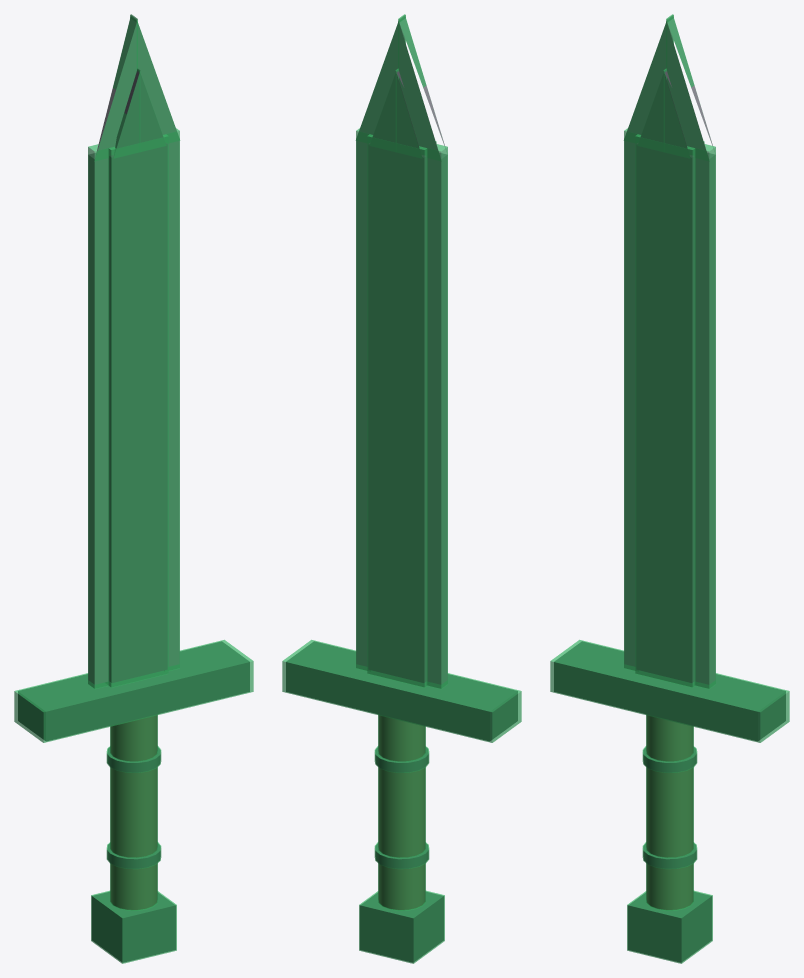
The picture shows the model from 3 angles, left to right: view 1: azimuth 30°, elevation 25°; view 2: azimuth 150°, elevation 25°; view 3: azimuth 330°, elevation 25°; orthographic projection.
Parts seen in each view (by area): view 1: weapon-ghostglass; view 2: weapon-ghostglass; view 3: weapon-ghostglass.
Part boxes in pixels (left/top/right/bottom): weapon-ghostglass: left=14, top=14, right=253, bottom=963; weapon-ghostglass: left=282, top=14, right=521, bottom=963; weapon-ghostglass: left=550, top=14, right=789, bottom=963.
Bounding box in the file's own units: 0.2024 × 0.8551 × 0.0526.
